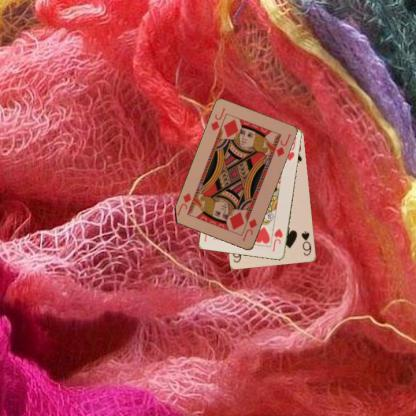6s: (298, 229, 312, 257)
Jd: (240, 216, 258, 243), (208, 106, 226, 132)
Jh: (270, 226, 284, 252)
